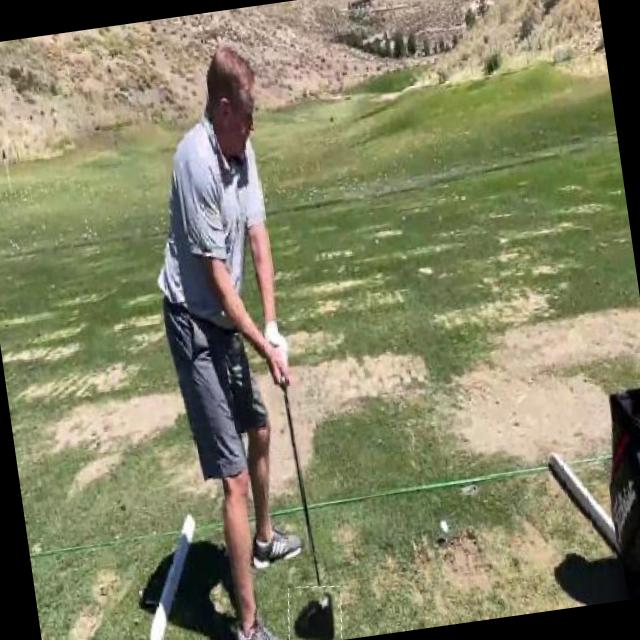club head: (283, 582, 346, 640)
